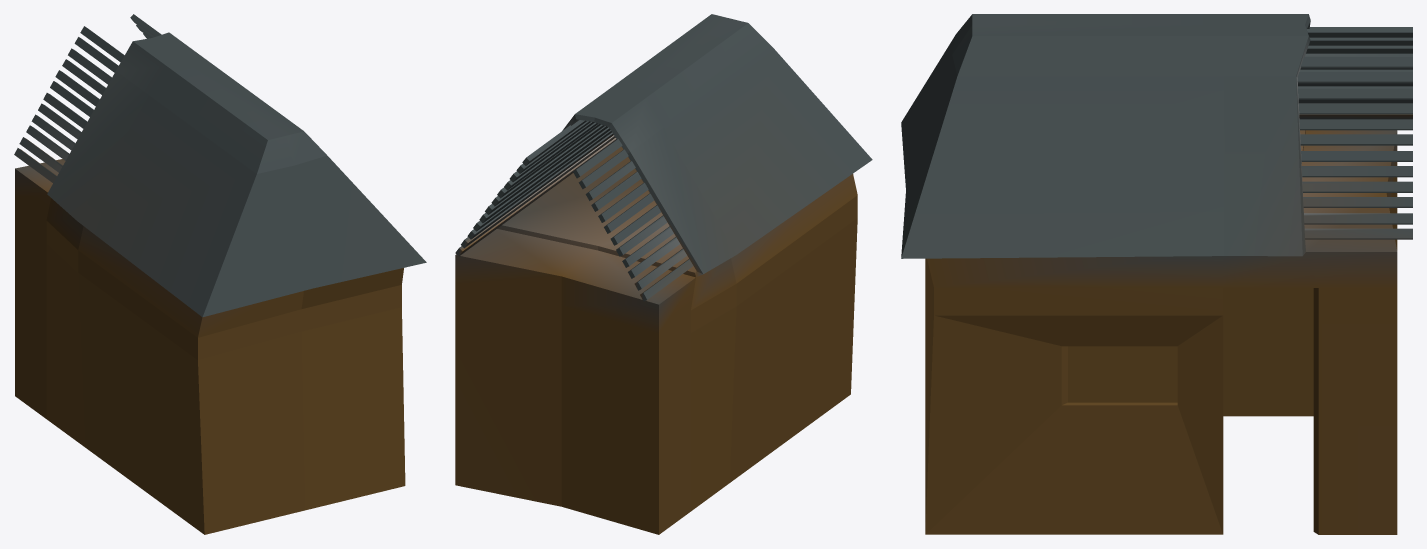
File: barraco2.fbx
3 views of the same model, side by side, from view 1: azimuth 30°, elevation 25°; view 2: azimuth 150°, elevation 25°; view 3: azimuth 270°, elevation 25° (orthographic). The views are drawn at different scales.
Visible parts, largest first — view 1: LOD0; view 2: LOD0; view 3: LOD0.
Part boxes in pixels (<box>): LOD0: <box>14,14,426,534</box>; LOD0: <box>455,14,872,534</box>; LOD0: <box>901,14,1412,534</box>.
Size of what is drawn, in the model's own units: 209 by 322 by 333.
